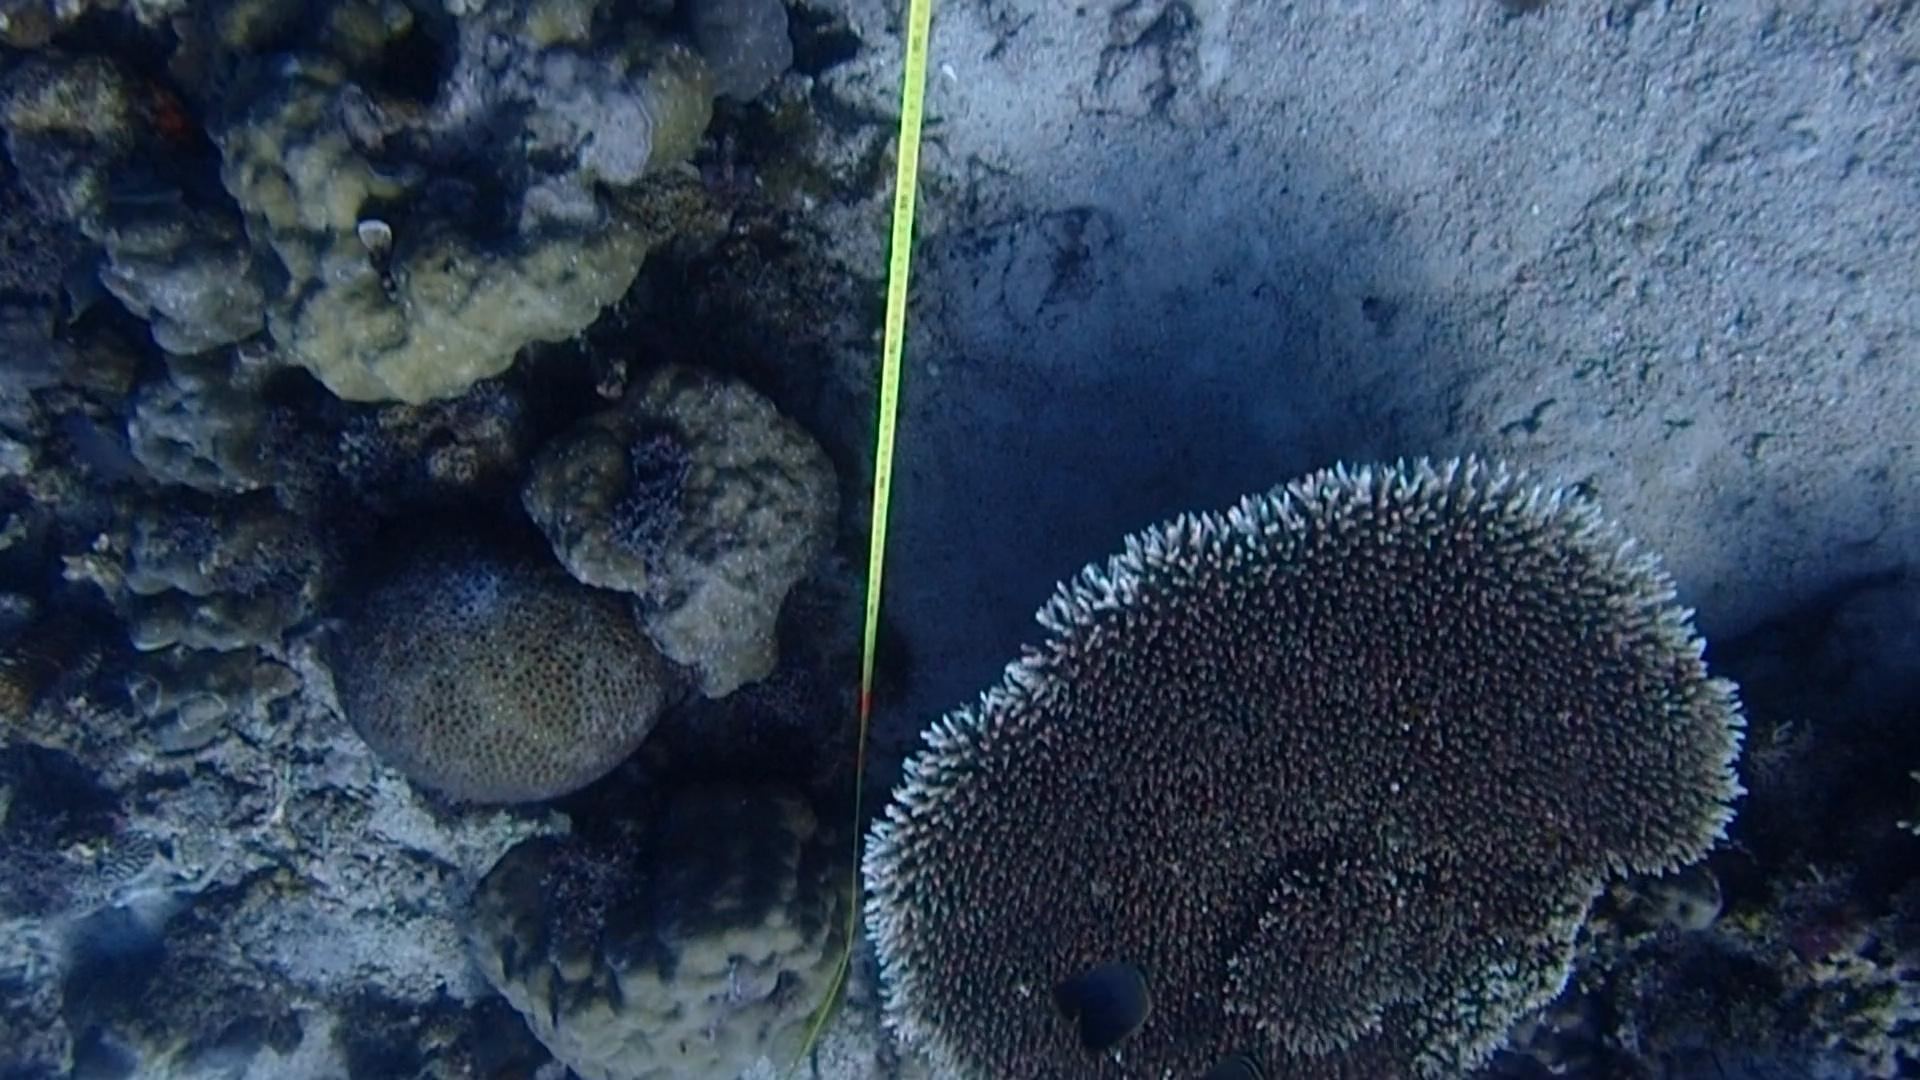Dark Blue Dory: (1047, 955, 1176, 1068)
Light Fish: (86, 171, 203, 225), (272, 595, 357, 663)
